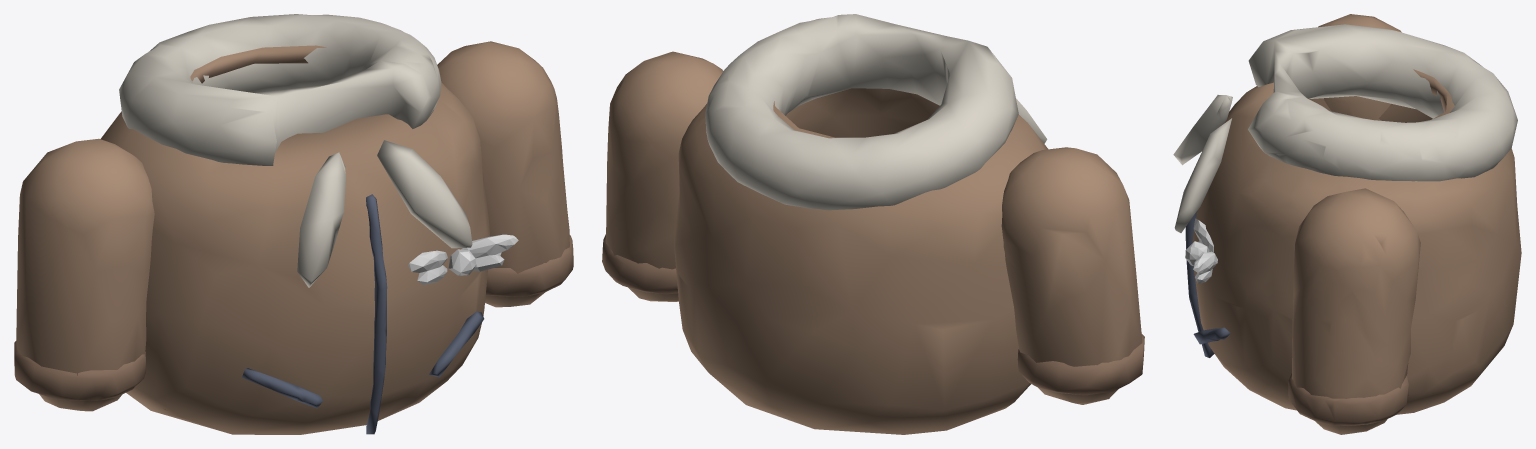
Rendered from gear_veste.glb.
3 renders of one model, left to right at view 1: azimuth 30°, elevation 25°; view 2: azimuth 150°, elevation 25°; view 3: azimuth 270°, elevation 25°, orthographic. The views are drawn at different scales.
Visible parts, largest first — view 1: torso__veste, arm_r__veste, arm_l__veste, torso__veste_glow; view 2: torso__veste, arm_r__veste, arm_l__veste; view 3: torso__veste, arm_l__veste, arm_r__veste, torso__veste_glow.
Boxes of the visible parts, <box> form: torso__veste: <box>100,14,490,434</box>; arm_r__veste: <box>14,138,154,411</box>; arm_l__veste: <box>437,41,573,307</box>; torso__veste_glow: <box>408,234,518,284</box>; torso__veste: <box>674,14,1047,434</box>; arm_r__veste: <box>1001,147,1144,404</box>; arm_l__veste: <box>602,51,723,301</box>; torso__veste: <box>1173,24,1521,414</box>; arm_l__veste: <box>1288,188,1420,434</box>; arm_r__veste: <box>1318,14,1401,120</box>; torso__veste_glow: <box>1185,218,1217,283</box>.
Size of the model in its own units: 0.5432 by 0.3133 by 0.3361.
